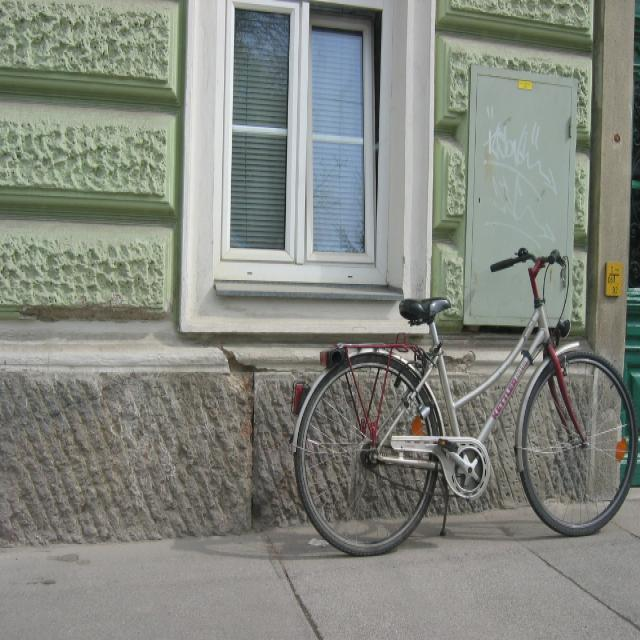bicycle: (290, 245, 638, 556)
